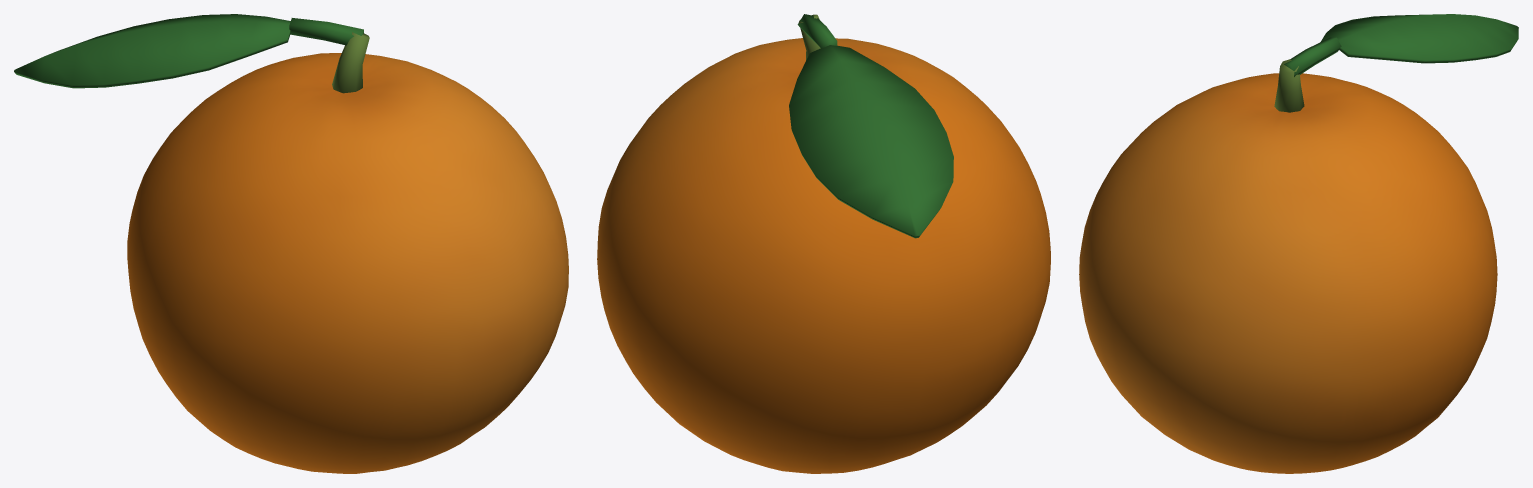
The model's file is orange.glb.
3 views of the same model, side by side, from view 1: azimuth 30°, elevation 25°; view 2: azimuth 150°, elevation 25°; view 3: azimuth 270°, elevation 25° (orthographic). The views are drawn at different scales.
Visible parts, largest first — view 1: Orange_Body, Orange_Leaf, Orange_Stalk; view 2: Orange_Body, Orange_Leaf; view 3: Orange_Body, Orange_Leaf, Orange_Stalk.
Part boxes in pixels (x1,y1,x2,y2): Orange_Body: (127,53,568,473); Orange_Leaf: (14,14,363,88); Orange_Stalk: (332,32,369,93); Orange_Body: (597,38,1050,473); Orange_Leaf: (789,14,953,238); Orange_Body: (1079,73,1497,473); Orange_Leaf: (1284,14,1518,76); Orange_Stalk: (1274,59,1304,112).
Size of the model in its own units: 0.0845 by 0.0833 by 0.0836.
